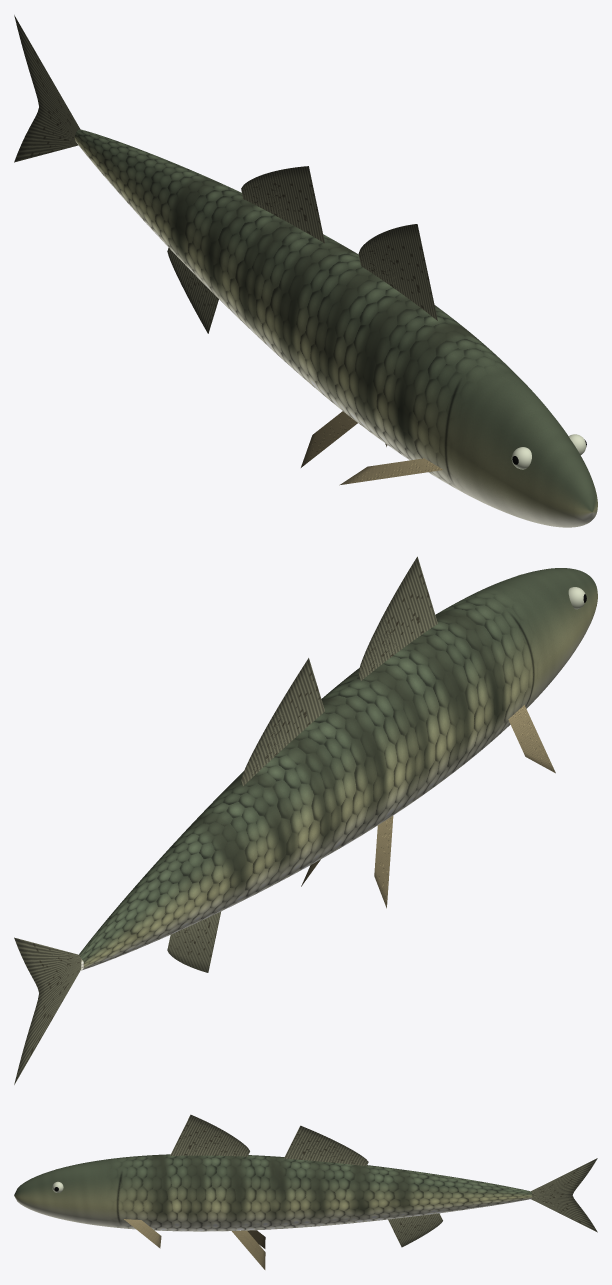
File: sudak.obj
The picture shows the model from 3 angles, top to bottom: view 1: azimuth 30°, elevation 25°; view 2: azimuth 150°, elevation 25°; view 3: azimuth 270°, elevation 25°; orthographic projection. The views are drawn at different scales.
Parts seen in each view (by area): view 1: body, fin_dorsal0, fin_tail, fin_dorsal1, fin_anal0, fin_pect_R, fin_pelv_R; view 2: body, fin_dorsal0, fin_tail, fin_dorsal1, fin_anal0, fin_pect_R, fin_pelv_R; view 3: body, fin_dorsal0, fin_tail, fin_dorsal1, fin_anal0, fin_pelv_L, fin_pect_L.
Part boxes in pixels (x1,y1,x2,y2): body: (74,129,597,527); fin_dorsal0: (358,224,437,320); fin_tail: (14,15,80,162); fin_dorsal1: (241,166,324,243); fin_anal0: (167,247,218,333); fin_pect_R: (339,458,443,485); fin_pelv_R: (301,411,357,467); body: (79,568,597,970); fin_dorsal0: (358,556,437,680); fin_tail: (14,937,81,1084); fin_dorsal1: (241,658,324,786); fin_anal0: (167,911,221,972); fin_pect_R: (508,705,555,773); fin_pelv_R: (374,816,393,908); body: (14,1154,531,1231); fin_dorsal0: (170,1114,249,1156); fin_tail: (531,1158,597,1232); fin_dorsal1: (284,1125,368,1166); fin_anal0: (388,1213,442,1247); fin_pelv_L: (232,1230,265,1269); fin_pect_L: (124,1219,161,1248).
Size of the model in its own units: 0.1408 by 0.1786 by 0.65.
5 materials, 3 textured.
